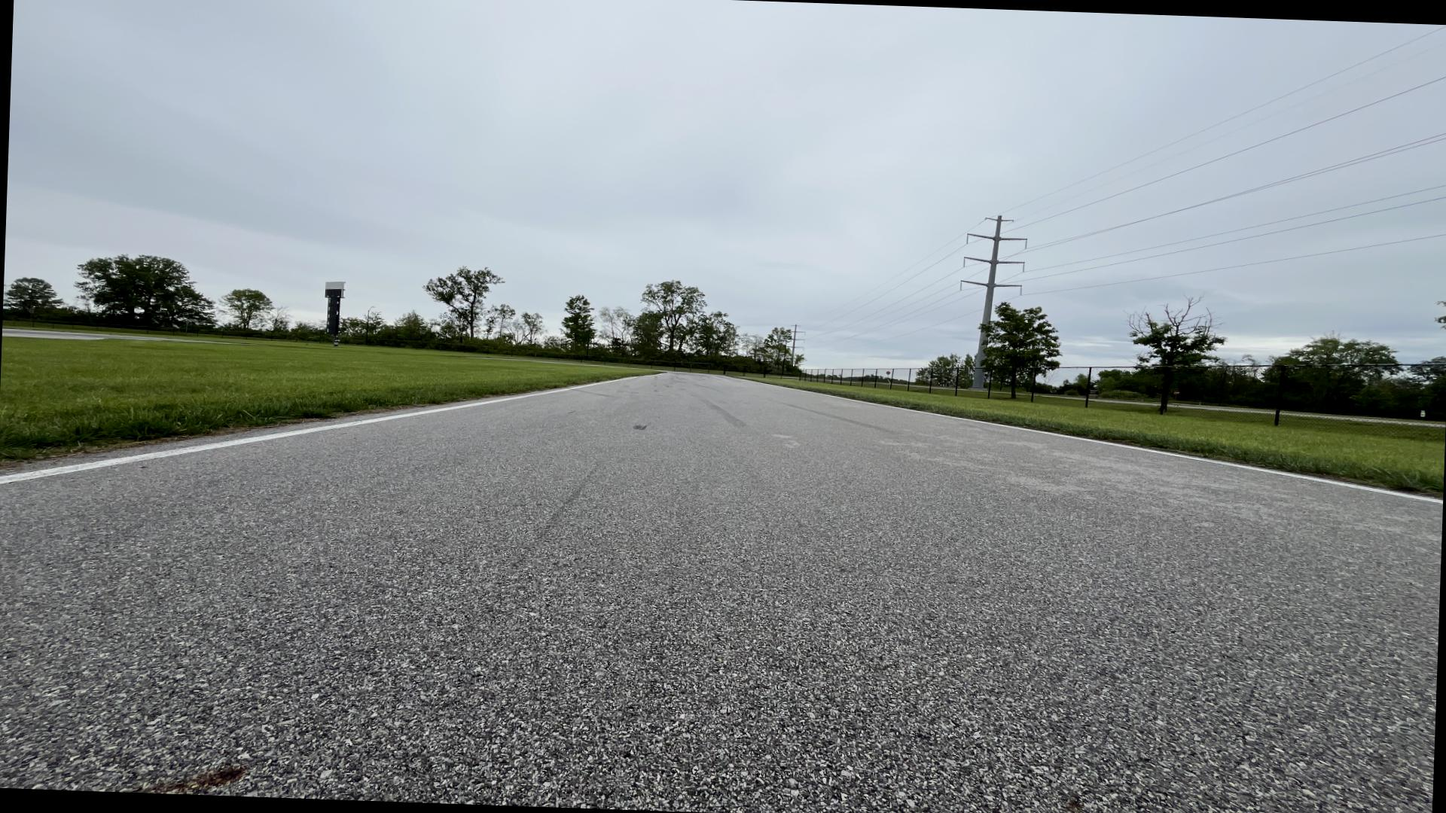white-line: (739, 379, 1442, 504), (0, 373, 668, 484)
